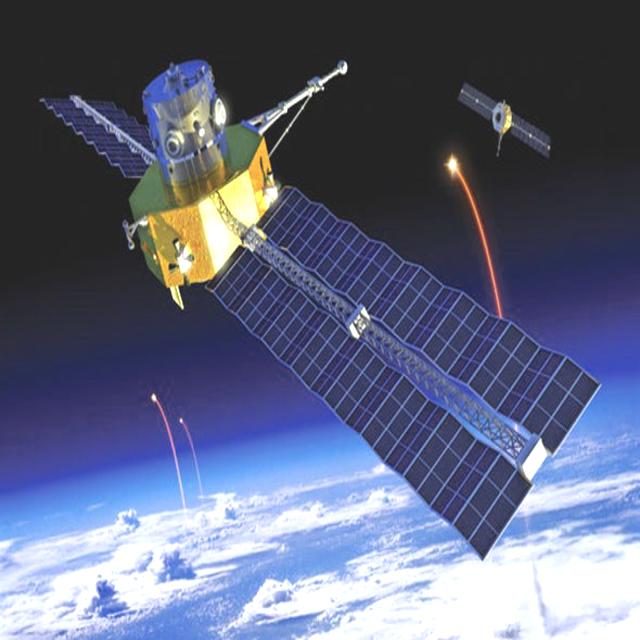large_debris: (449, 157, 457, 176), (152, 390, 156, 406), (178, 416, 184, 424)
medium_debris: (34, 49, 607, 566), (460, 76, 553, 157)
